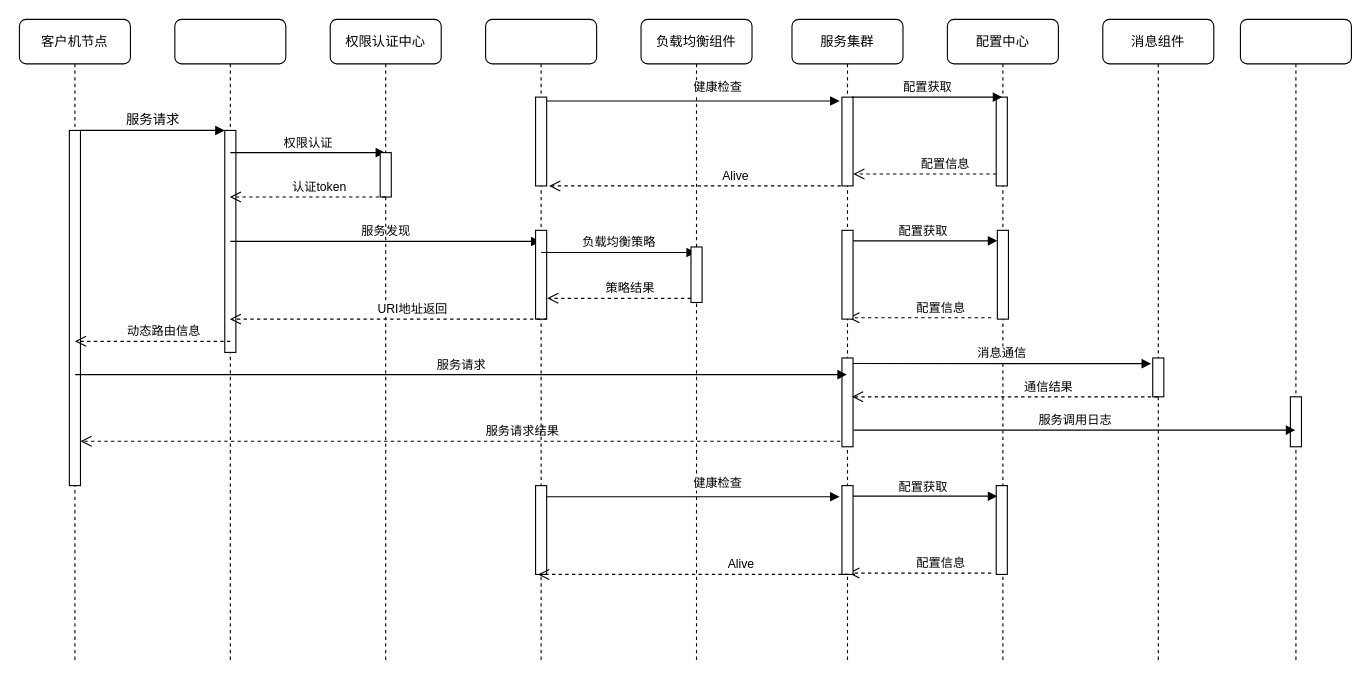
This 1371x683 diagram has some shape labels left out. The shapes that lost their labels are listed below. From the top down, each one's box as (x1, y1, x2, y2) in pixels, then its label:
(174, 18, 286, 663): 服务网关
(485, 18, 597, 663): 注册中心
(1239, 18, 1351, 663): 链路追踪组件
